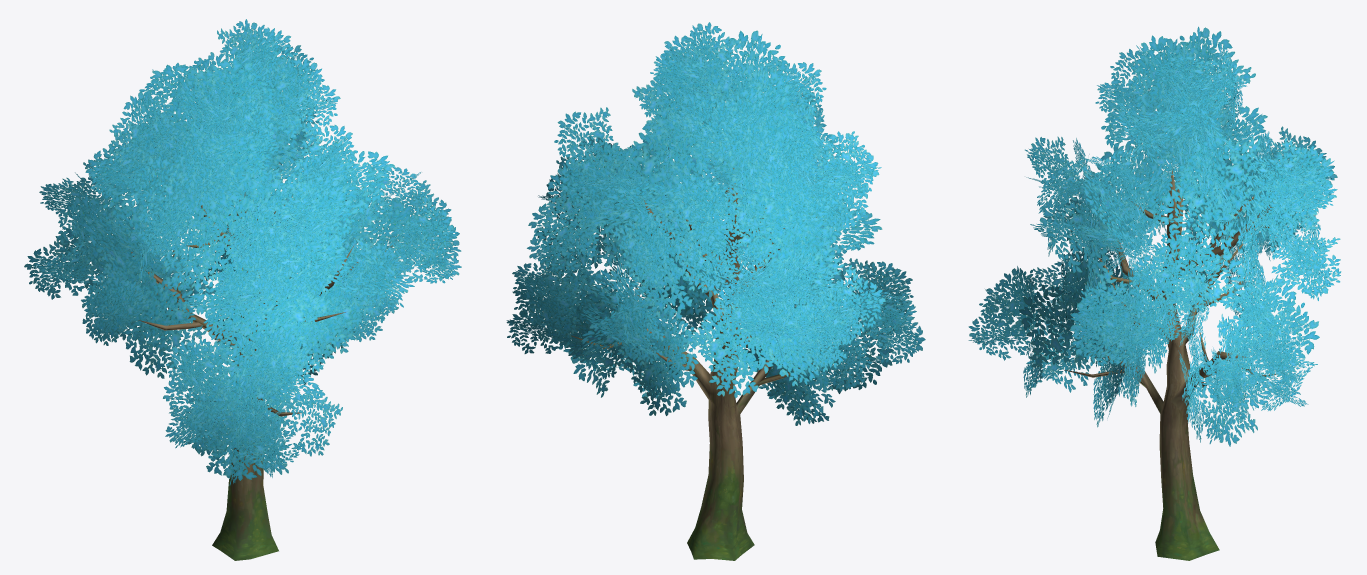
Rendered from CyTree.fbx.
3 views of the same model, side by side, from view 1: azimuth 30°, elevation 25°; view 2: azimuth 150°, elevation 25°; view 3: azimuth 270°, elevation 25° (orthographic). The views are drawn at different scales.
Visible parts, largest first — view 1: Stages_CyTree02_Leaf_Lod1, Stages_CyTree02_Bark_Lod1; view 2: Stages_CyTree02_Leaf_Lod1, Stages_CyTree02_Bark_Lod1; view 3: Stages_CyTree02_Leaf_Lod1, Stages_CyTree02_Bark_Lod1.
Boxes of the visible parts, bbox=[...] form: Stages_CyTree02_Leaf_Lod1: bbox=[24, 19, 461, 485]; Stages_CyTree02_Bark_Lod1: bbox=[131, 175, 394, 560]; Stages_CyTree02_Leaf_Lod1: bbox=[506, 22, 925, 425]; Stages_CyTree02_Bark_Lod1: bbox=[566, 168, 816, 560]; Stages_CyTree02_Leaf_Lod1: bbox=[968, 26, 1341, 446]; Stages_CyTree02_Bark_Lod1: bbox=[1063, 167, 1277, 560].
Size of the model in its own units: 1350 by 1704 by 1189.
3 materials, 3 textured.
